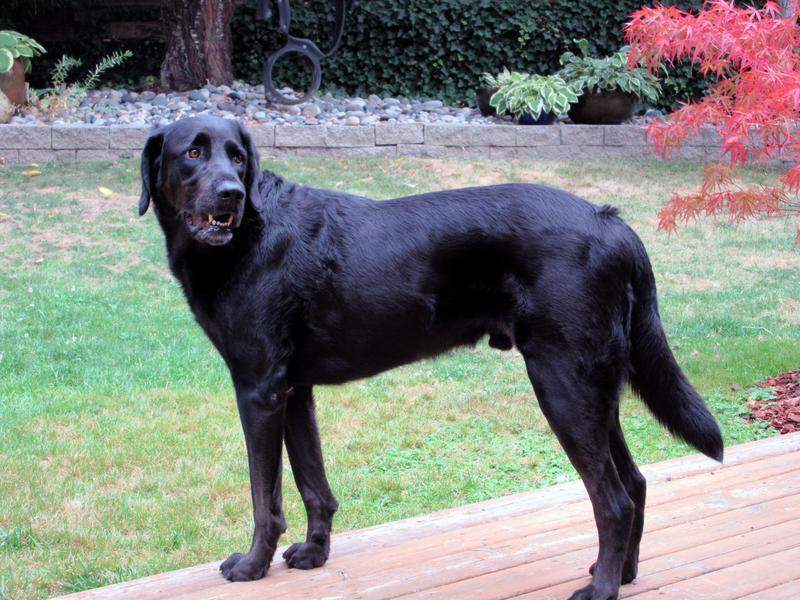dog_stand: (133, 110, 726, 599)
